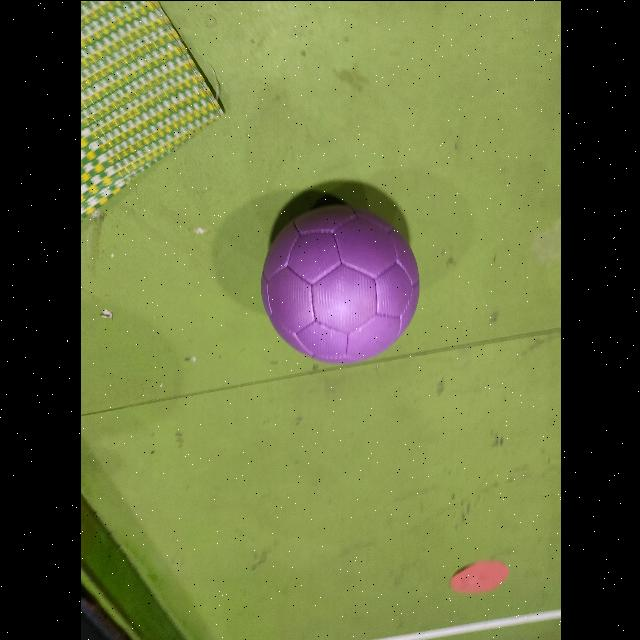P: (260, 206, 418, 362)
